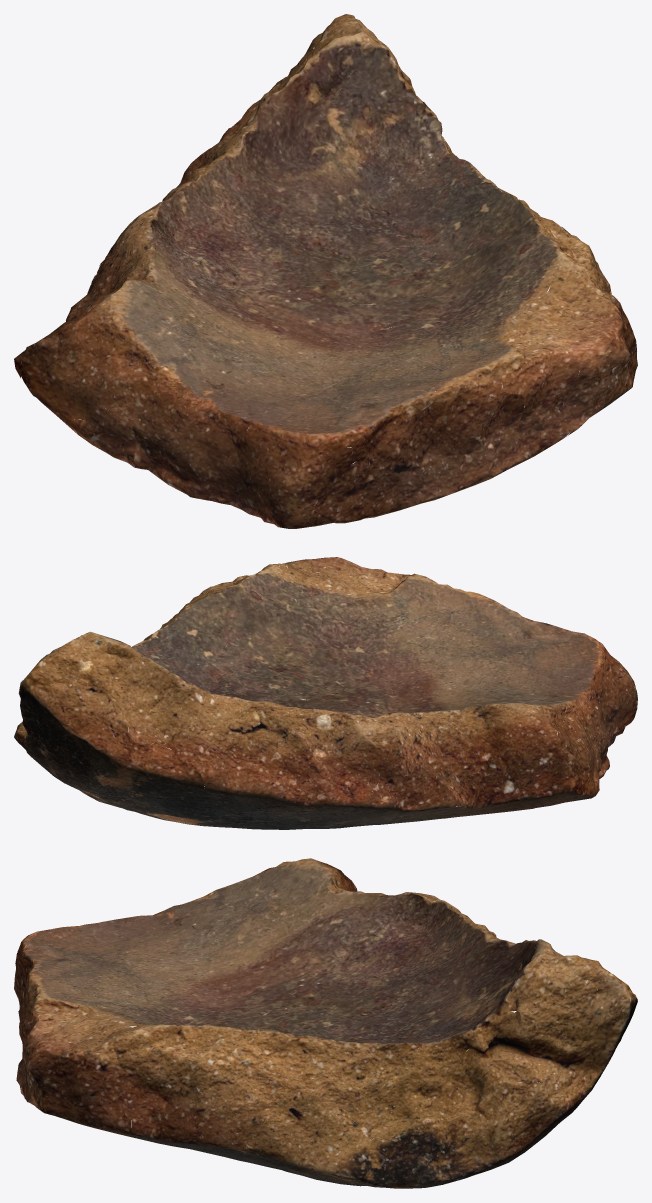
The model's file is piece6_10000_resHi.glb.
3 renders of one model, top to bottom at view 1: azimuth 30°, elevation 25°; view 2: azimuth 150°, elevation 25°; view 3: azimuth 270°, elevation 25°, orthographic. The views are drawn at different scales.
Bounding box in the file's own units: 0.1107 × 0.0475 × 0.1126.
1 material, 1 textured.
